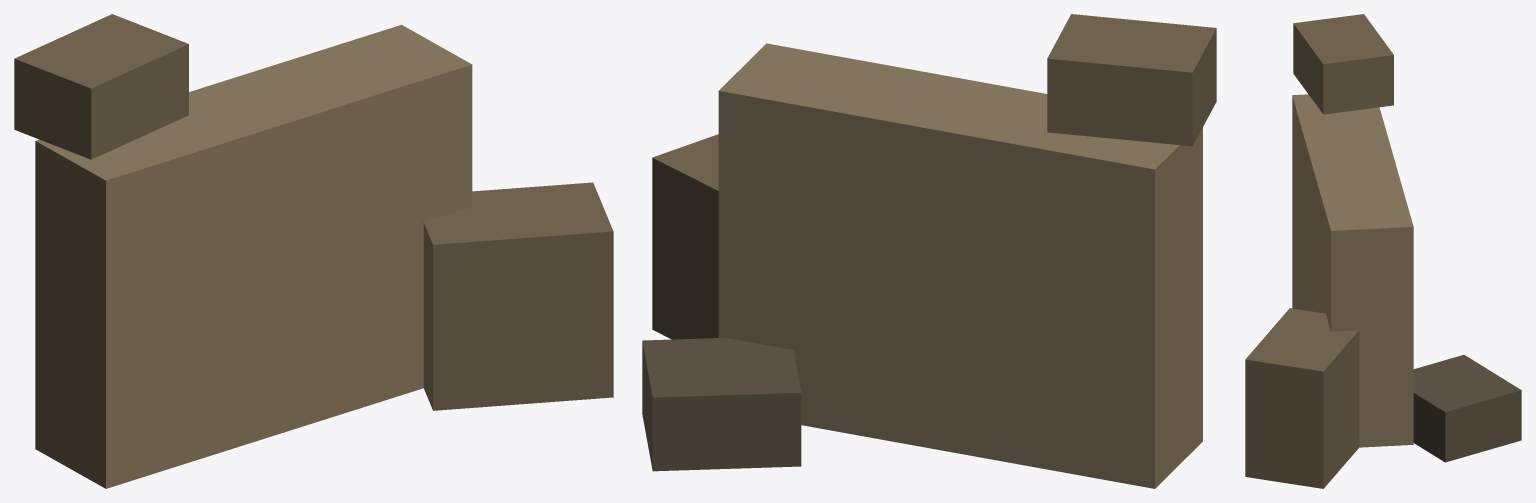
The model's file is deco_ruin.glb.
3 renders of one model, left to right at view 1: azimuth 30°, elevation 25°; view 2: azimuth 150°, elevation 25°; view 3: azimuth 270°, elevation 25°, orthographic. The views are drawn at different scales.
Parts seen in each view (by area): view 1: body; view 2: body; view 3: body.
Boxes of the visible parts, bbox=[...] form: body: bbox=[14, 14, 613, 488]; body: bbox=[642, 14, 1216, 488]; body: bbox=[1245, 14, 1521, 488].
Bounding box in the file's own units: 0.9711 × 0.68 × 0.5972.
